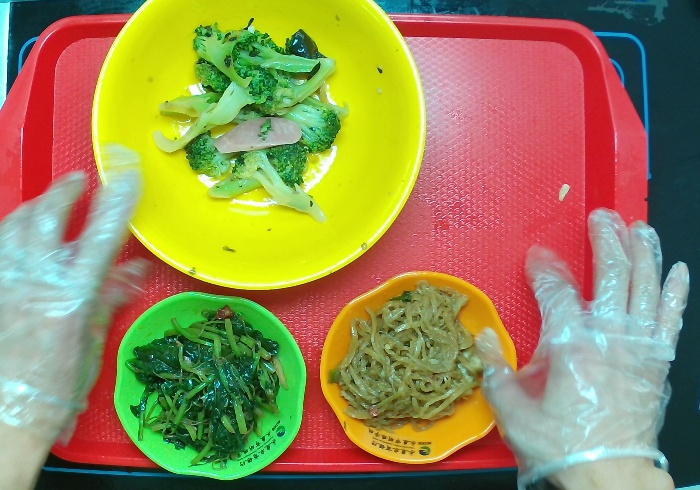YKMZ-Huang_Se_Tang_Wan: (89, 1, 428, 292)
YKMZ-Ju_Se_Ao_Bian_Wan: (317, 269, 520, 466)
YKMZ-Lv_Se_Ao_Bian_Wan: (111, 289, 309, 481)
